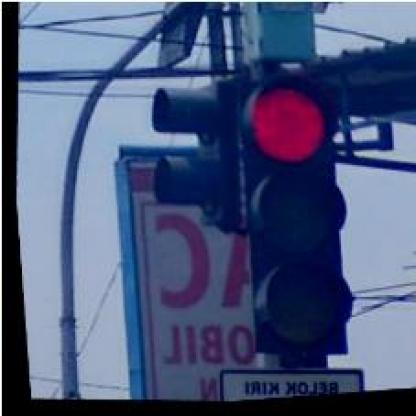red: (220, 75, 370, 368)
